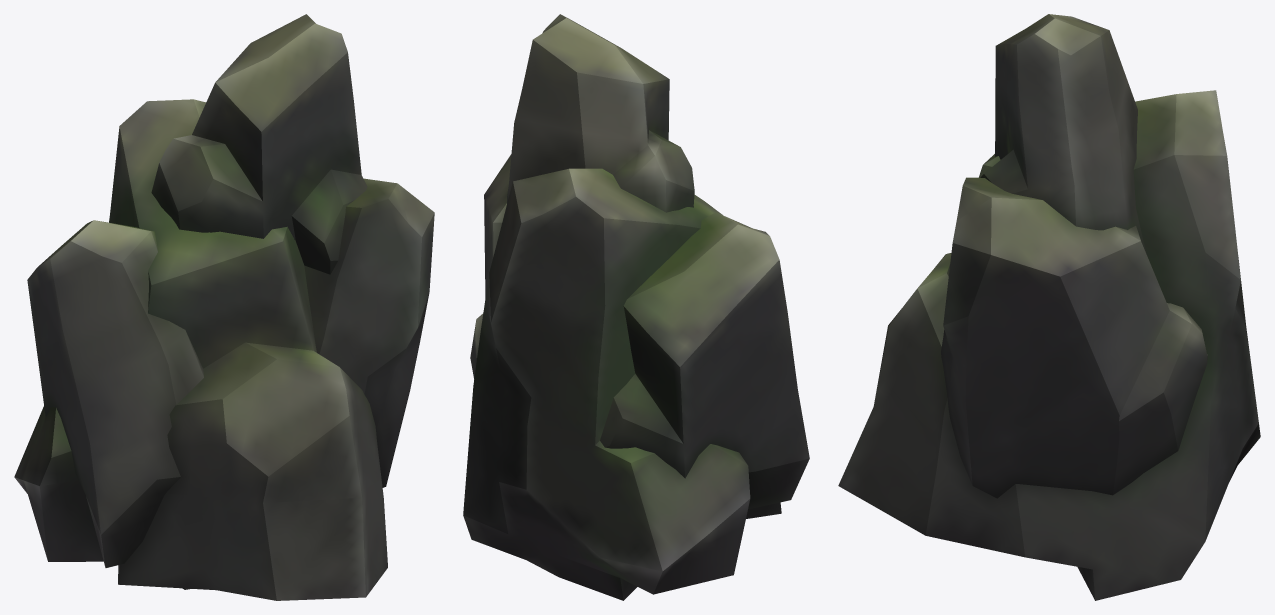
The model's file is rock_3.glb.
3 views of the same model, side by side, from view 1: azimuth 30°, elevation 25°; view 2: azimuth 150°, elevation 25°; view 3: azimuth 270°, elevation 25° (orthographic). The views are drawn at different scales.
Visible parts, largest first — view 1: Rock_3; view 2: Rock_3; view 3: Rock_3.
Boxes of the visible parts, x1,y1,x2,y2 form: Rock_3: (14, 14, 434, 600); Rock_3: (463, 14, 809, 600); Rock_3: (838, 14, 1260, 600).
Size of the model in its own units: 0.8436 by 1.31 by 0.8972.
Materials: 1 (1 with a texture image).
